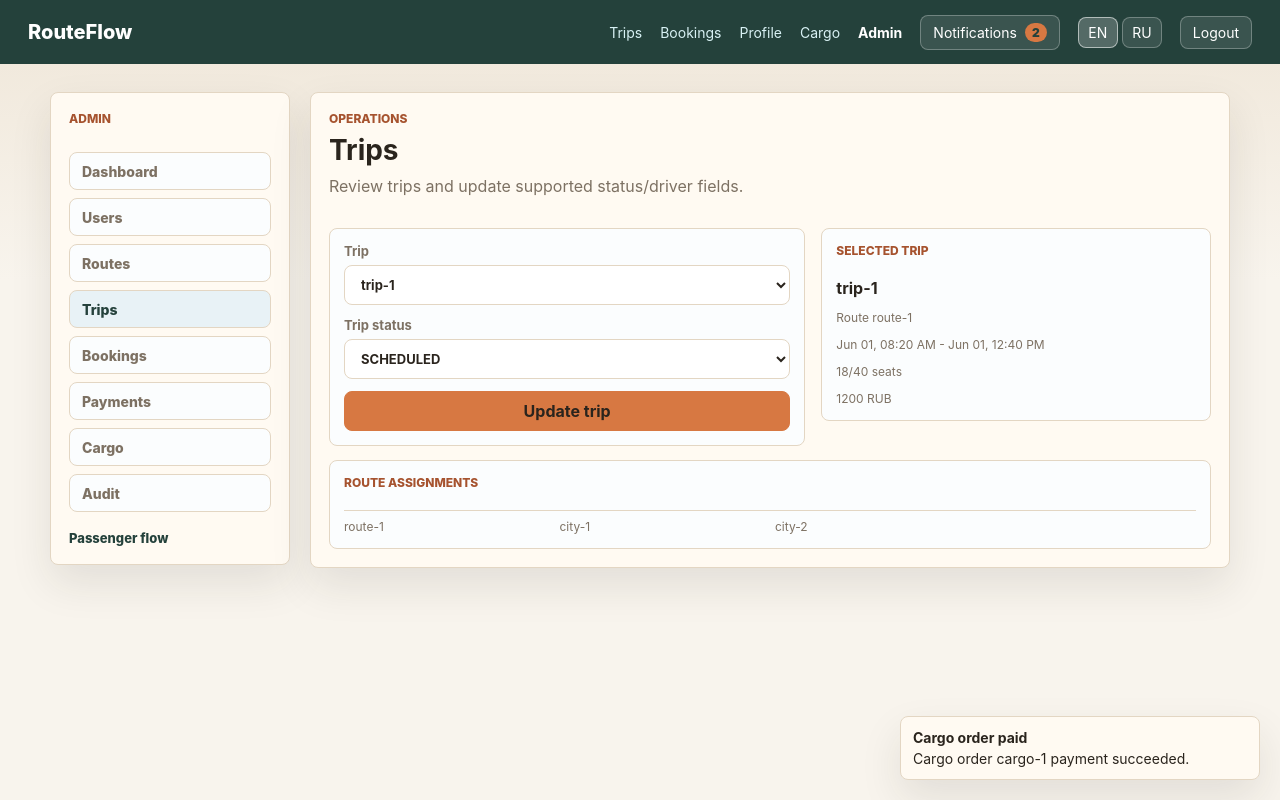
it: App routes › updates trip status from the admin trips screen
expect the heading "Trips" is shown: met, box x1=329 y1=133 x2=399 y2=167
Select "COMPLETED" in the dropdown labelled "Trip status" at [567, 359], box x1=344 y1=339 x2=790 y2=379
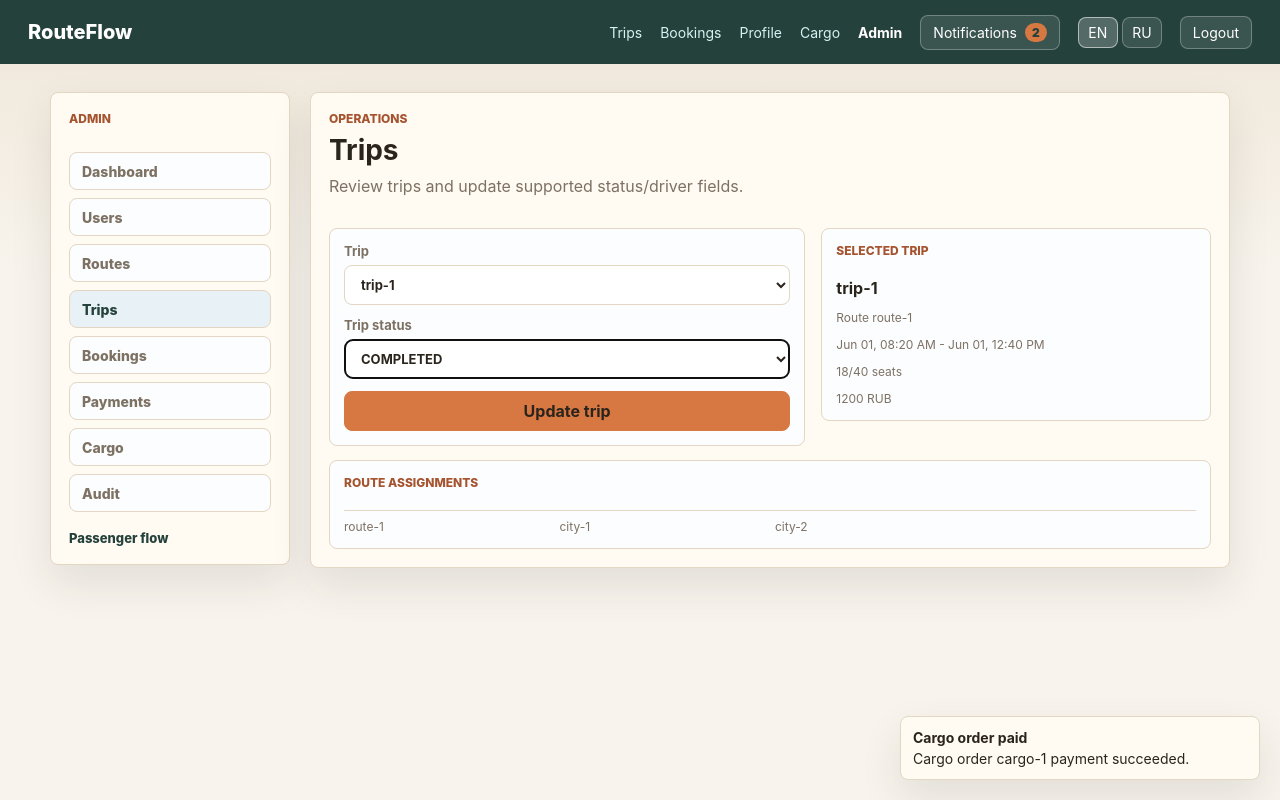
Click the button "Update trip".
click(567, 411)  # box x1=344 y1=391 x2=790 y2=431
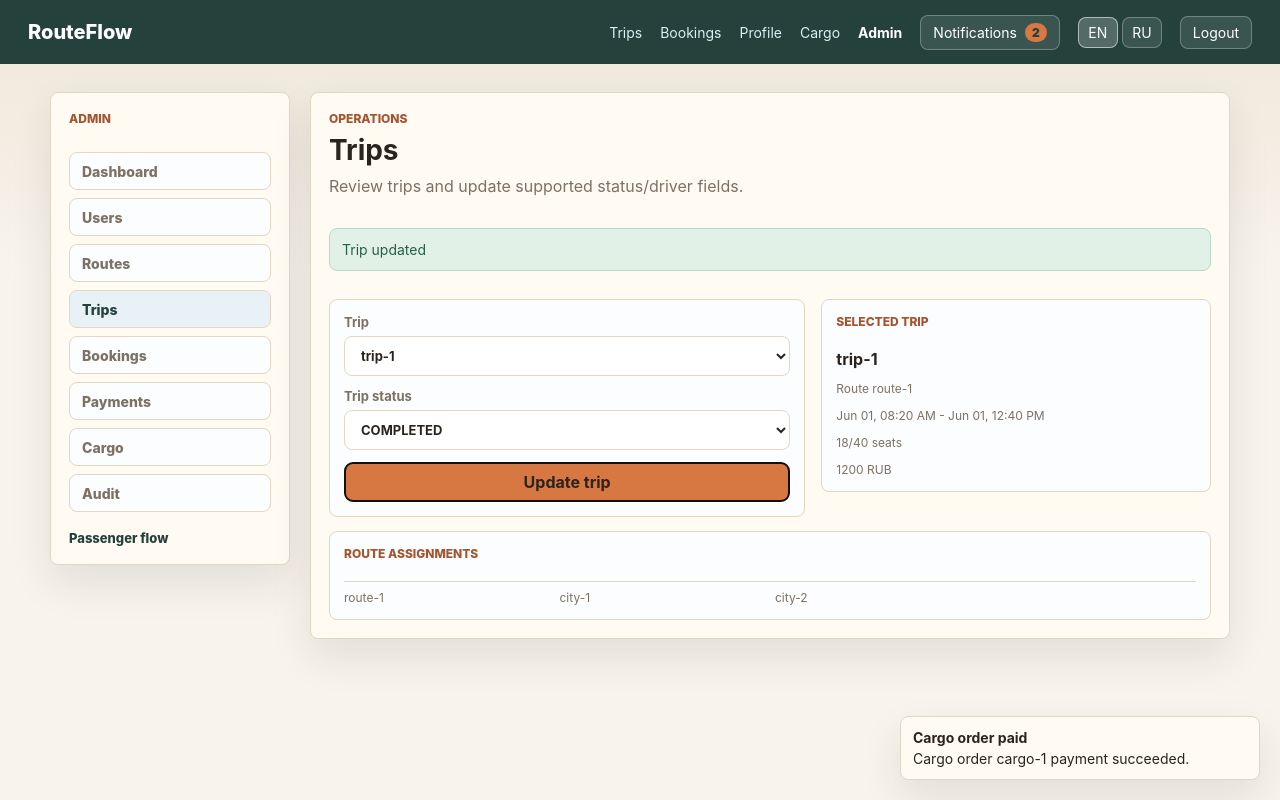
expect the text "Trip updated" is shown: met, box x1=329 y1=228 x2=1211 y2=271
